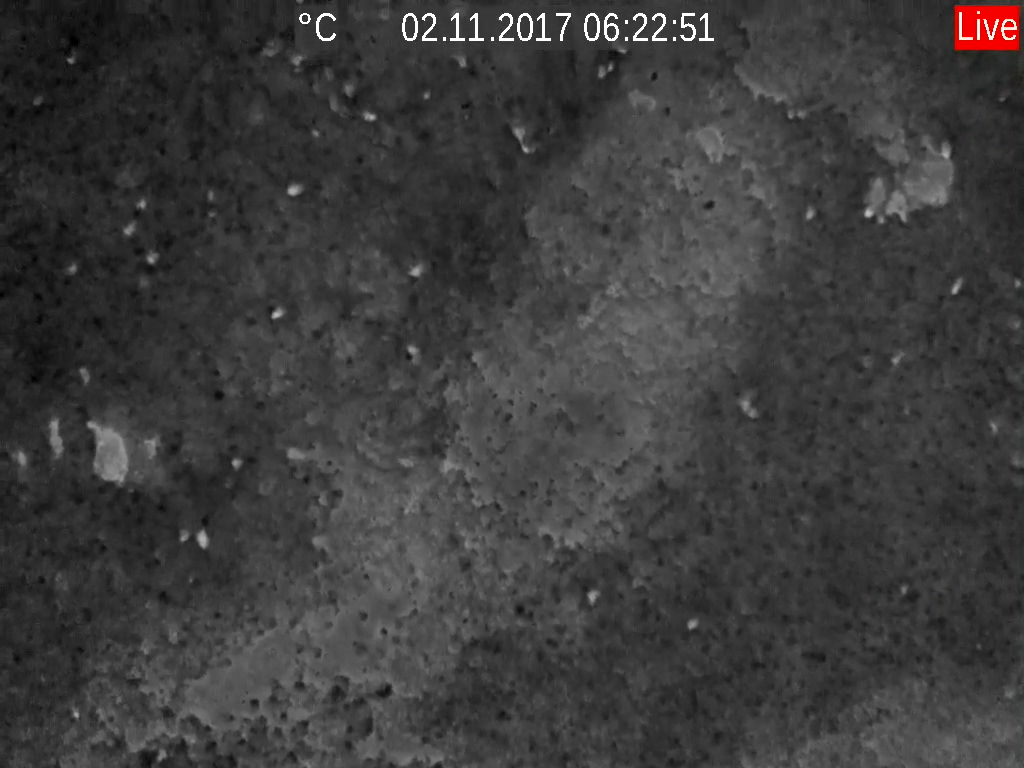warren: (858, 196, 883, 221), (936, 137, 956, 161), (194, 527, 213, 550), (285, 177, 306, 197), (949, 273, 967, 296), (266, 302, 286, 322), (120, 217, 140, 237), (684, 615, 704, 632)
